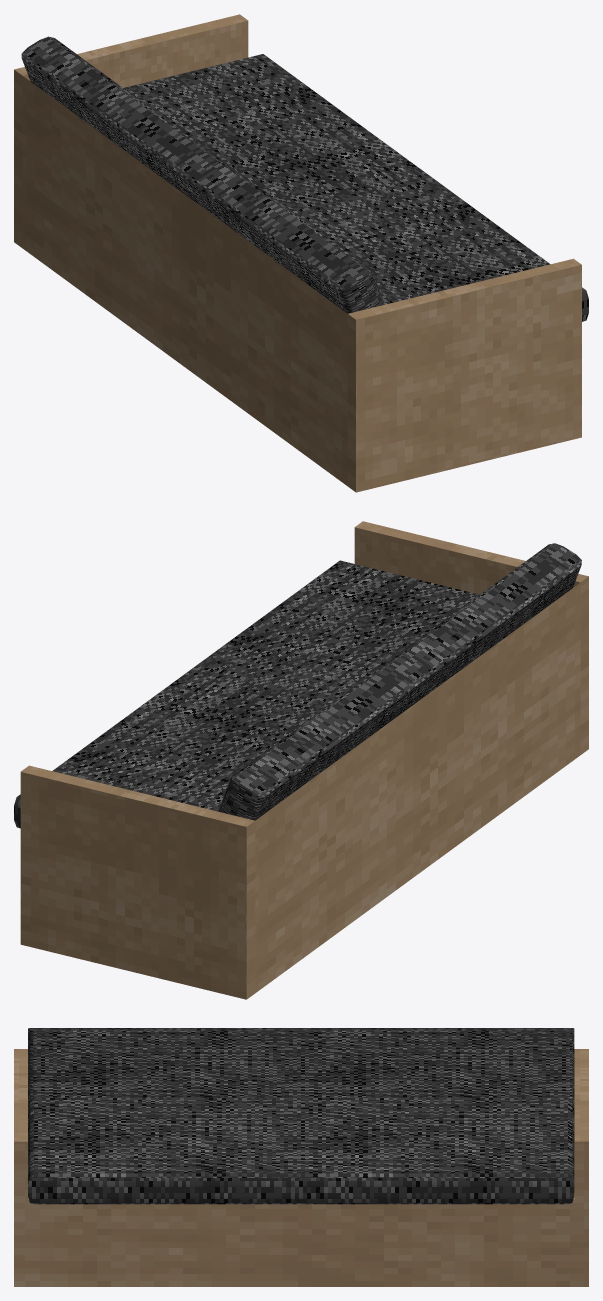
The model's file is couch.fbx.
3 renders of one model, top to bottom at view 1: azimuth 30°, elevation 25°; view 2: azimuth 150°, elevation 25°; view 3: azimuth 270°, elevation 25°, orthographic. The views are drawn at different scales.
Visible parts, largest first — view 1: Plane.004, Plane.006, Plane.007; view 2: Plane.004, Plane.006, Plane.007; view 3: Plane.006, Plane.004, Plane.007.
Part boxes in pixels (box(x1,y1,x2,y2)): Plane.004: box(14, 14, 581, 492); Plane.006: box(123, 54, 588, 321); Plane.007: box(21, 36, 384, 313); Plane.004: box(20, 521, 588, 999); Plane.006: box(14, 560, 479, 828); Plane.007: box(218, 543, 581, 820); Plane.006: box(28, 1097, 574, 1204); Plane.004: box(14, 1049, 588, 1286); Plane.007: box(28, 1028, 574, 1103).
Bounding box in the file's own units: 166 × 133 × 400.
